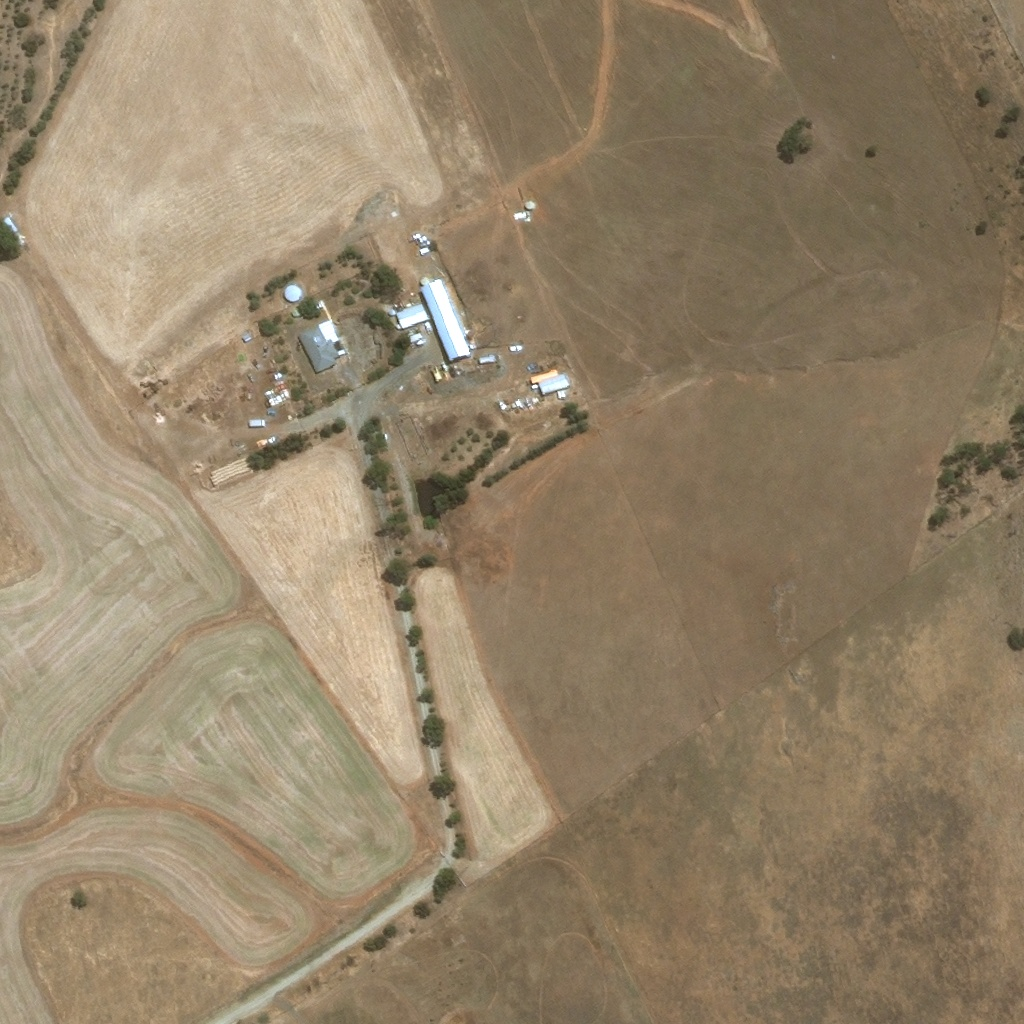0 no-damage: (419, 276, 472, 361), (297, 322, 340, 375), (396, 302, 429, 329), (534, 377, 565, 400), (525, 374, 553, 388), (282, 286, 300, 305), (0, 220, 16, 238), (408, 332, 423, 344), (476, 357, 493, 366), (239, 334, 251, 344), (523, 201, 533, 211), (258, 441, 268, 449), (418, 249, 427, 257), (313, 303, 322, 311), (289, 310, 298, 318), (272, 373, 282, 380), (553, 396, 561, 404), (389, 310, 395, 316)
2 major-damage: (442, 368, 453, 379), (432, 371, 442, 383)
3 destroyed: (387, 213, 396, 222)
